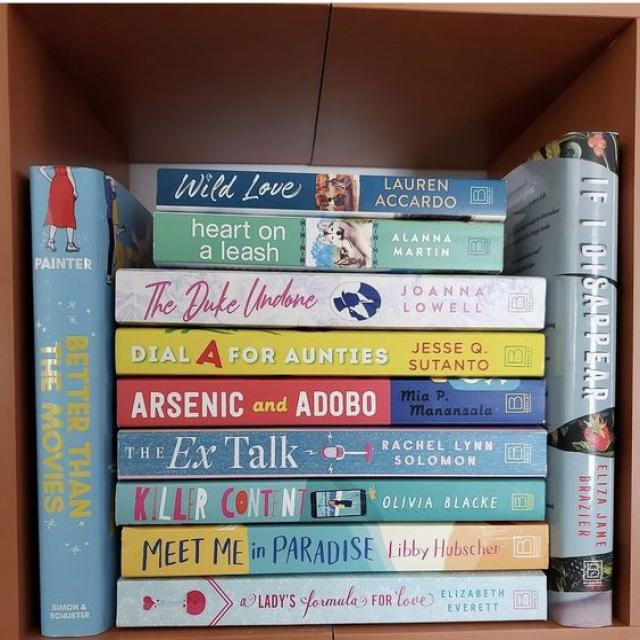book: (29, 172, 112, 633), (554, 132, 621, 629), (115, 268, 545, 329), (117, 572, 546, 627), (120, 523, 548, 577), (153, 212, 501, 273), (118, 430, 545, 479), (115, 329, 543, 377), (116, 478, 543, 525), (117, 380, 543, 427), (155, 167, 504, 219)
